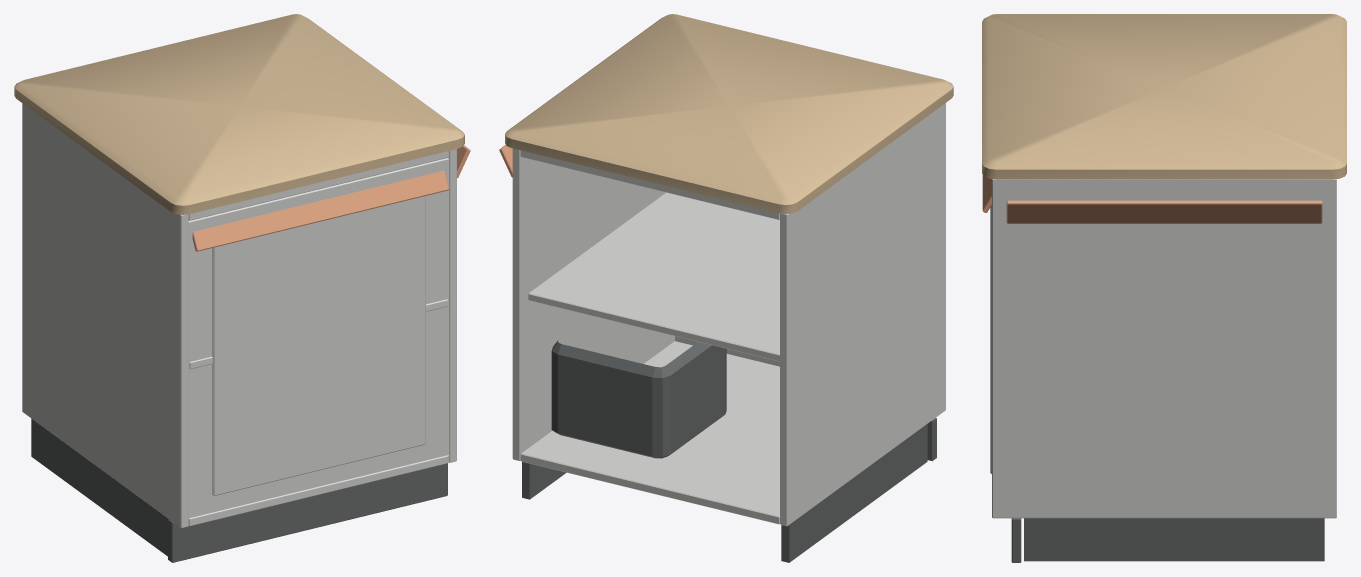
The model's file is garden-centre-and-florist-till-counter-corner-592b153f__17774.glb.
3 views of the same model, side by side, from view 1: azimuth 30°, elevation 25°; view 2: azimuth 150°, elevation 25°; view 3: azimuth 270°, elevation 25° (orthographic). The views are drawn at different scales.
Visible parts, largest first — view 1: till-counter-corner; view 2: till-counter-corner; view 3: till-counter-corner.
Boxes of the visible parts, x1,y1,x2,y2 form: till-counter-corner: (14,14,470,562); till-counter-corner: (499,14,953,562); till-counter-corner: (982,14,1346,562).
Size of the model in its own units: 0.772 by 0.9 by 0.74.
